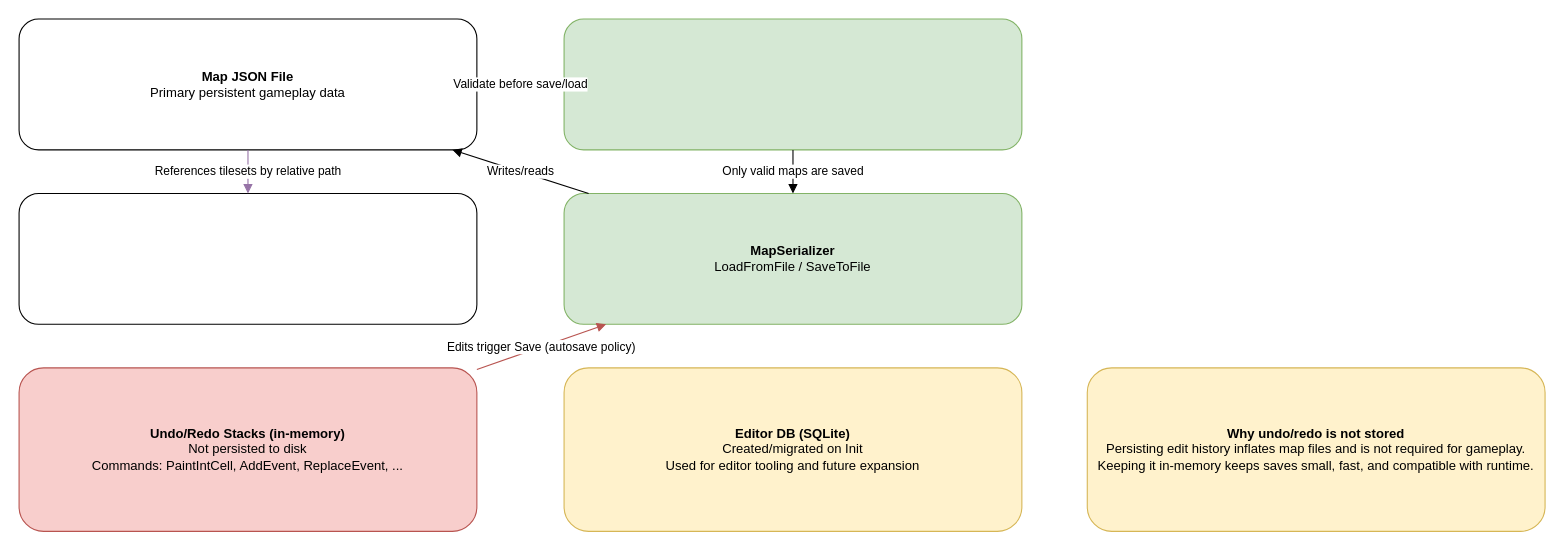
Image size: 1564x550. Some labels were removed from this diagram. The shapes that lost their labels are listed below. From the top down, each one's centre as x and y in pixels, then its label:
At (792,84): "MapValidator Checks required fields + array sizes".
At (247,258): "Tileset PNG Spritesheet assets referenced by maps".
